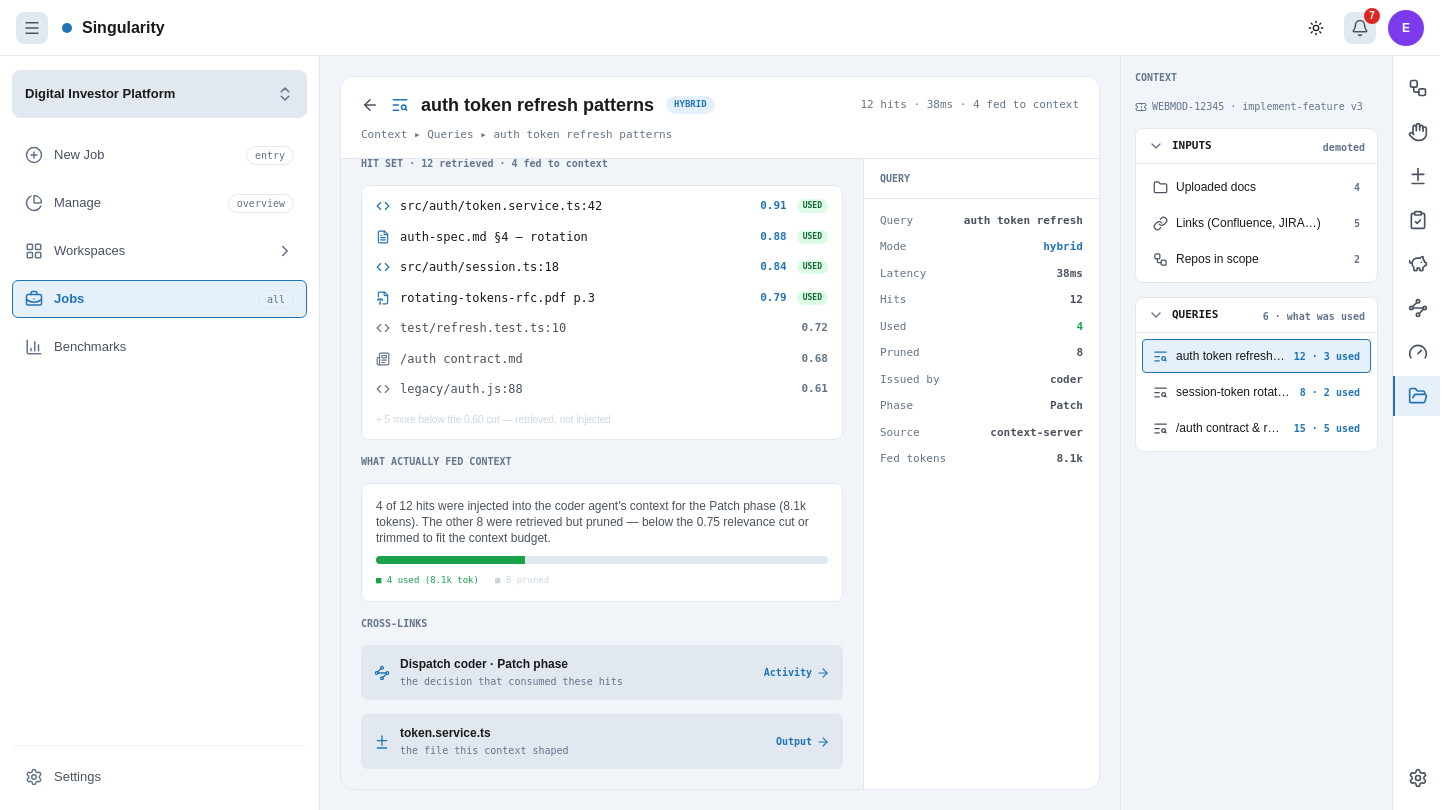
it: Context section › cross-links to the decision that consumed the hits
(page scrolled)
expect the heading "auth token refresh patterns" is shown: met, box [421,91,654,119]
Click the link "the decision that consumed" at (484, 664), box [361,645,843,700]
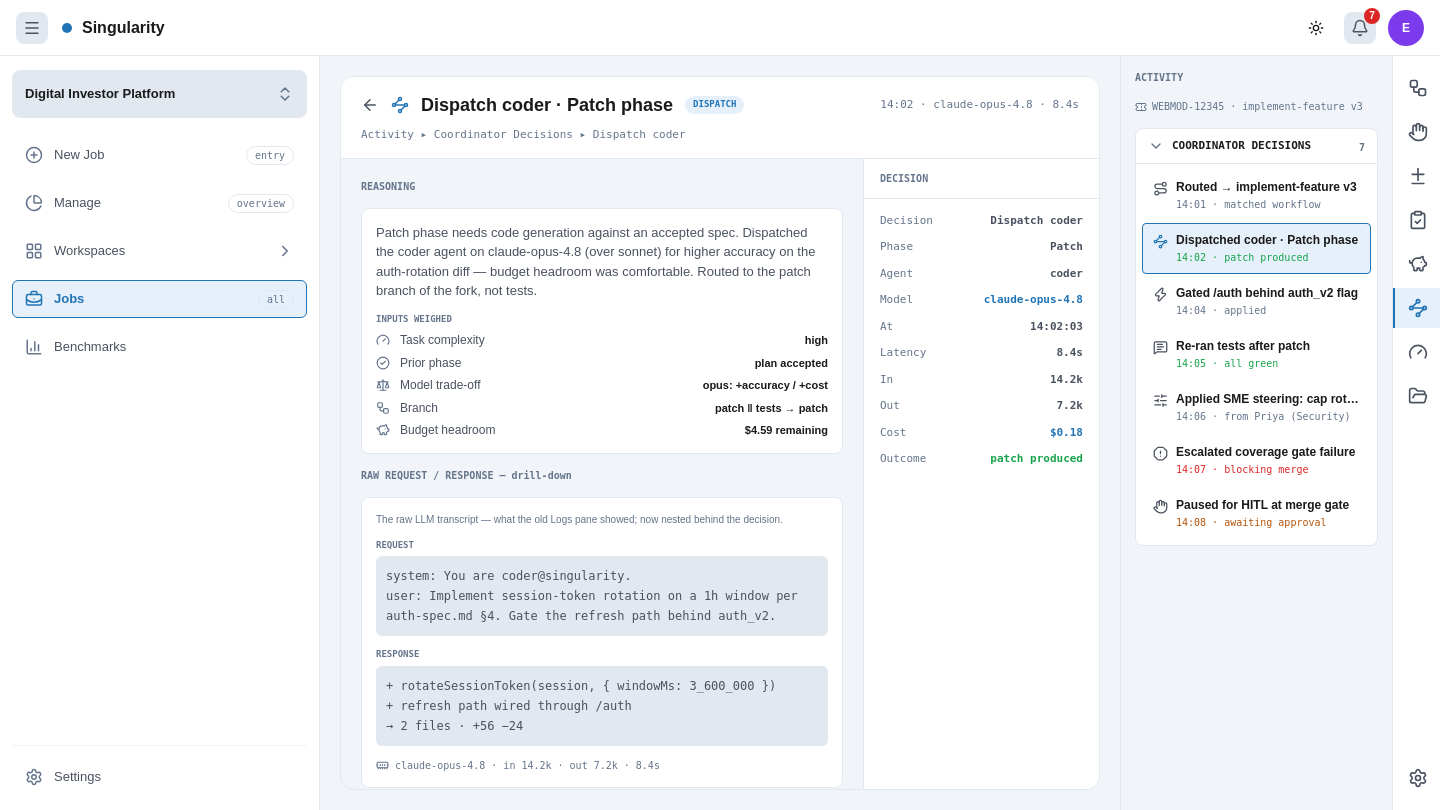
expect the heading "Dispatch coder · Patch phase" is shown: met, box [421,91,673,119]
